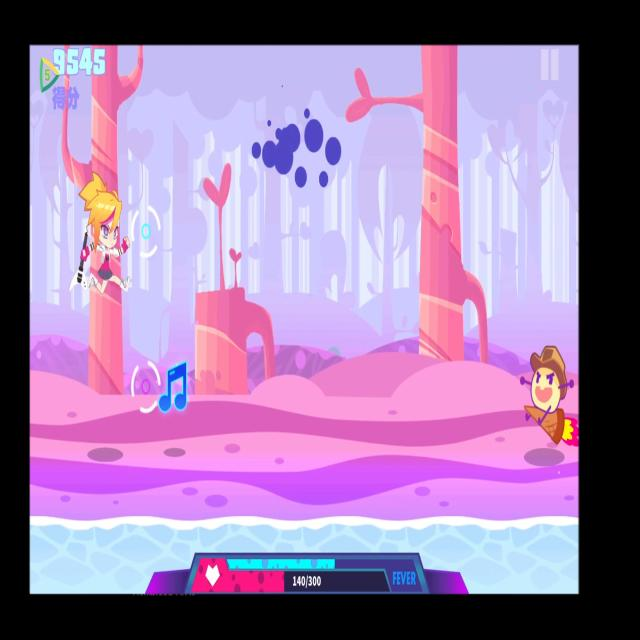Music note: (159, 352, 193, 421)
qiu: (516, 331, 576, 452)
